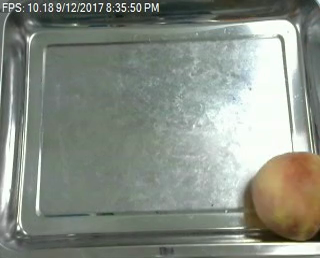Peach: (246, 151, 318, 240)
